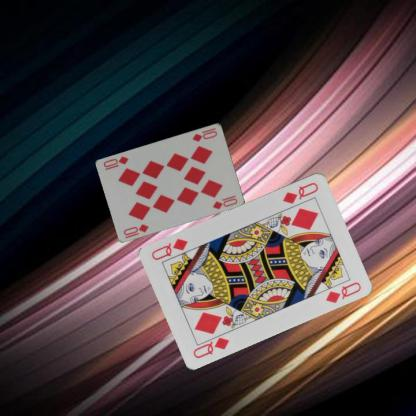10d: (190, 125, 218, 143), (121, 222, 150, 236)
Qd: (190, 328, 231, 360), (280, 179, 320, 205)
